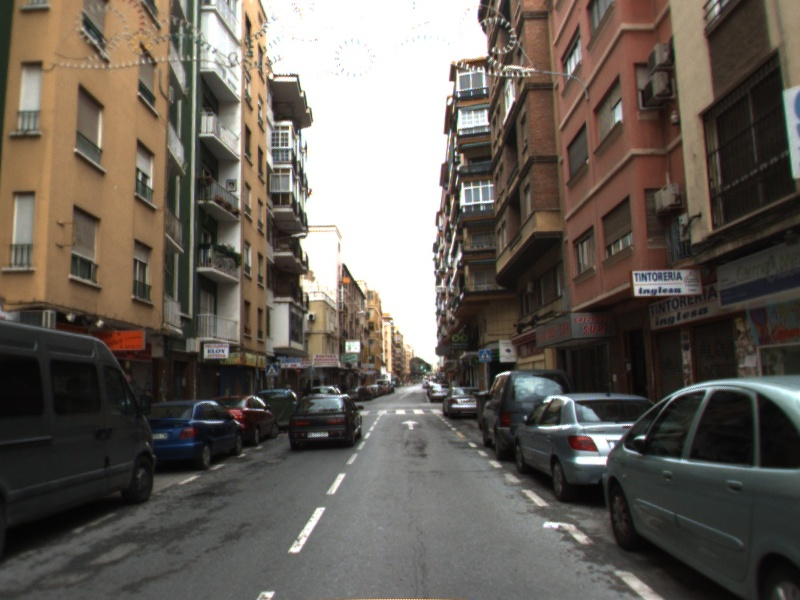STRAIGHT: (399, 418, 421, 431)
